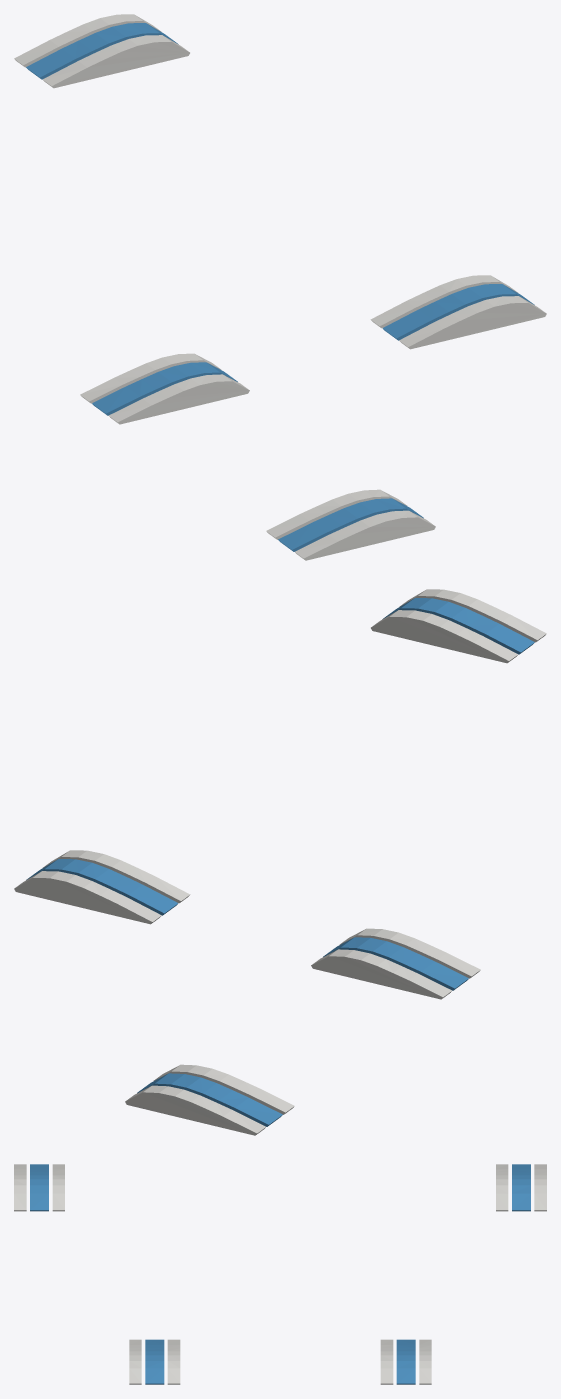
The model's file is gd_plane_wingstripes.glb.
3 views of the same model, one above another, from view 1: azimuth 30°, elevation 25°; view 2: azimuth 150°, elevation 25°; view 3: azimuth 270°, elevation 25° (orthographic). The views are drawn at different scales.
Parts seen in each view (by area): view 1: base; view 2: base; view 3: base.
Boxes of the visible parts, x1,y1,x2,y2 form: base: (14, 14, 546, 560); base: (14, 589, 546, 1135); base: (14, 1164, 546, 1384).
Size of the model in its own units: 0.246 by 0.4341 by 1.06.
